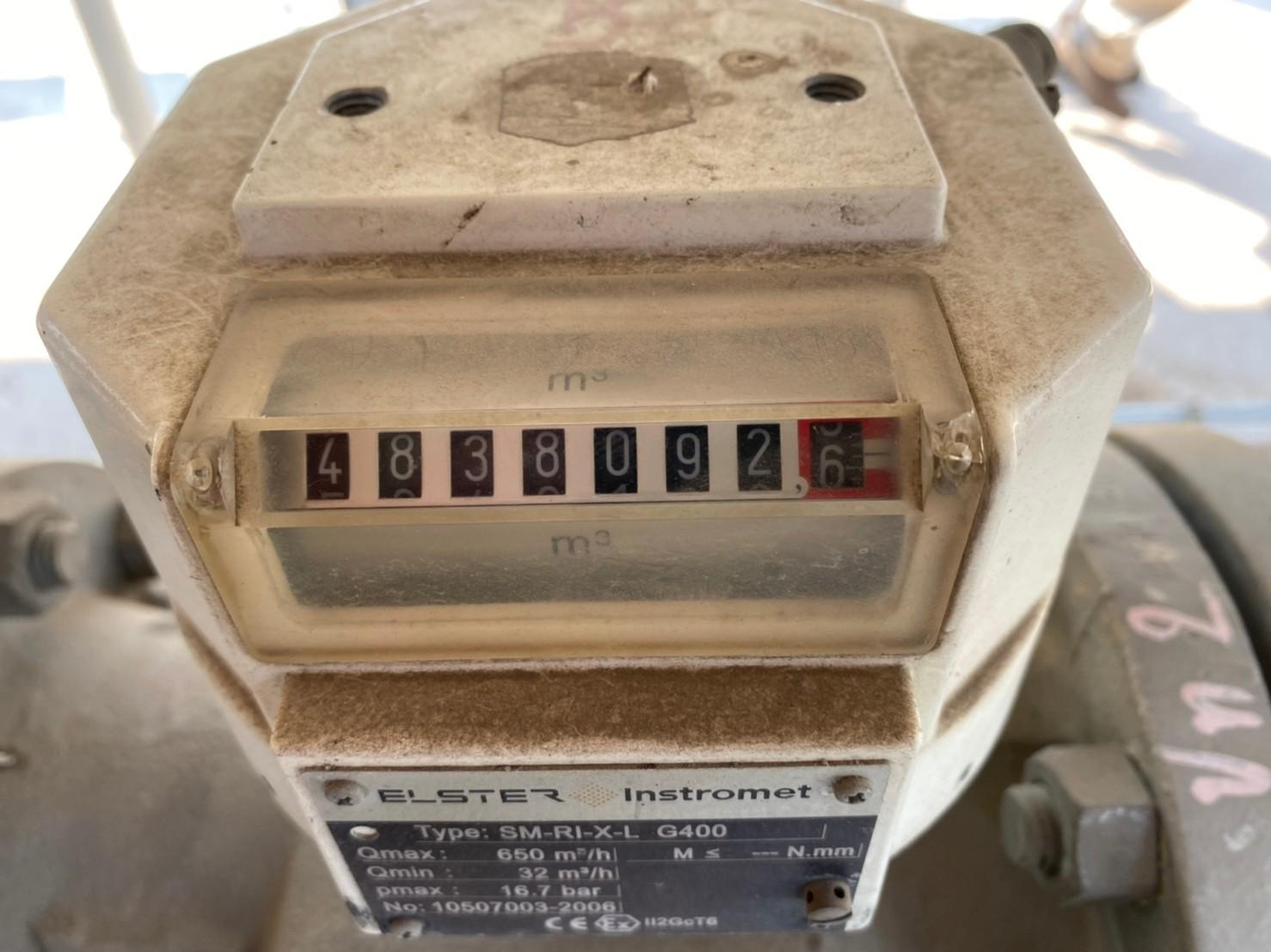analog_dial: (261, 418, 902, 513)
